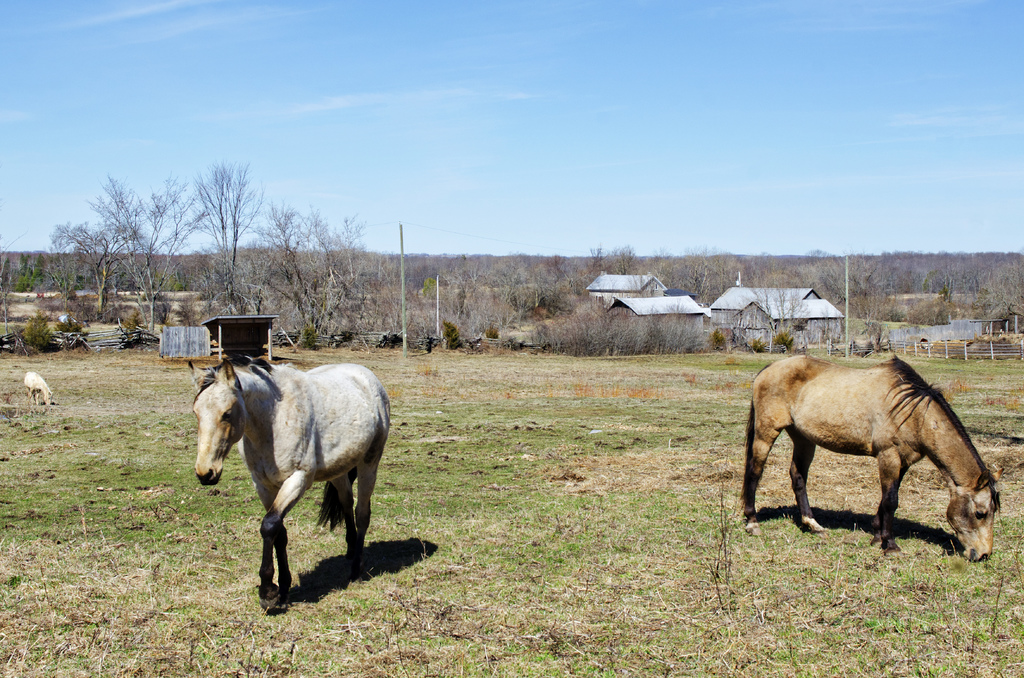horse: (742, 352, 1002, 563), (185, 358, 391, 614)
